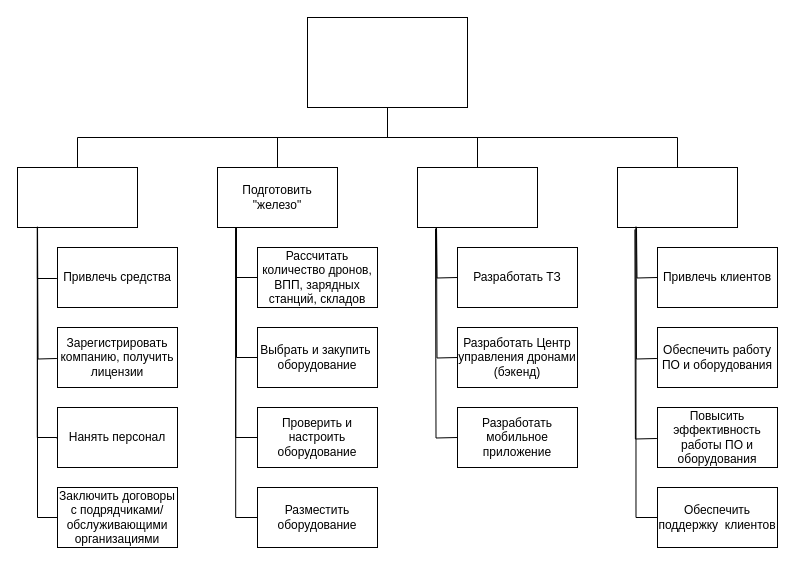
This 795x565 diagram has some shape labels left out. The centre of each missing label's shape, as x and y in pixels:
"Обеспечить быструю доставка малогабаритных грузов на небольшие расстояния" goes at (387,62).
"Получить прибыль" goes at (677,197).
"Разработать ПО" goes at (477,197).
"Создать компанию" goes at (77,197).
